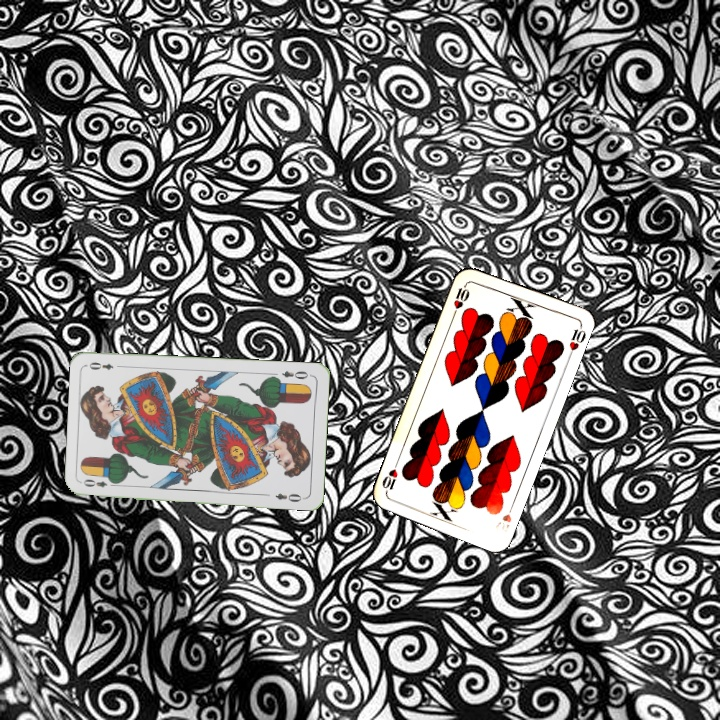EO: (79, 475, 119, 490), (278, 367, 313, 381)
H10: (491, 499, 517, 534), (449, 279, 472, 318)
